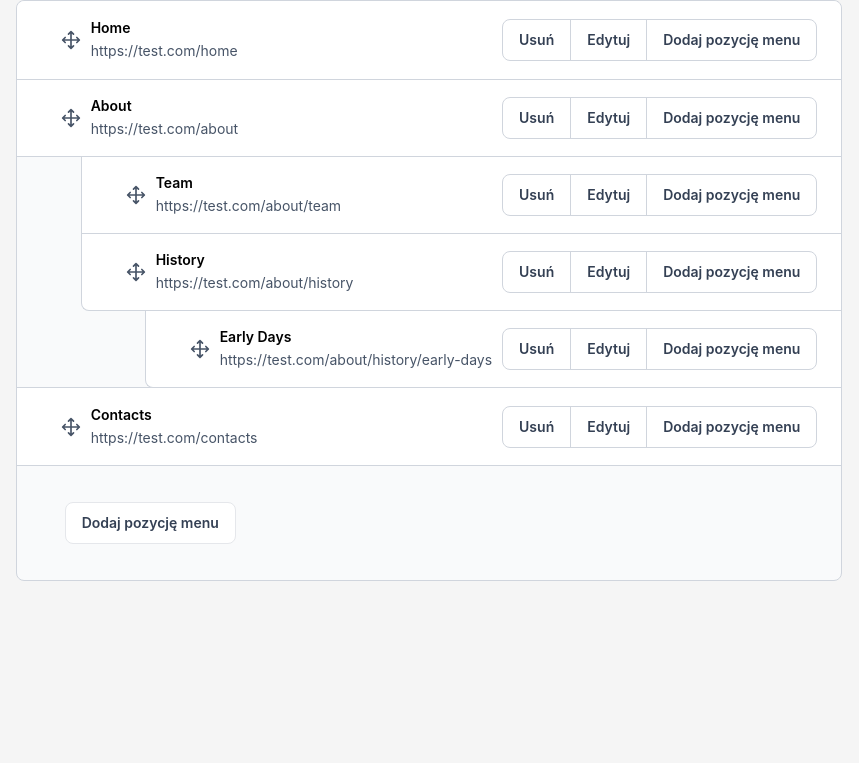
Test: MenuContainer › edits a menu item
The width and height of the screenshot is (859, 763).
Click the 1st button "Edytuj".
click(609, 40)  # box [570,20,647,60]
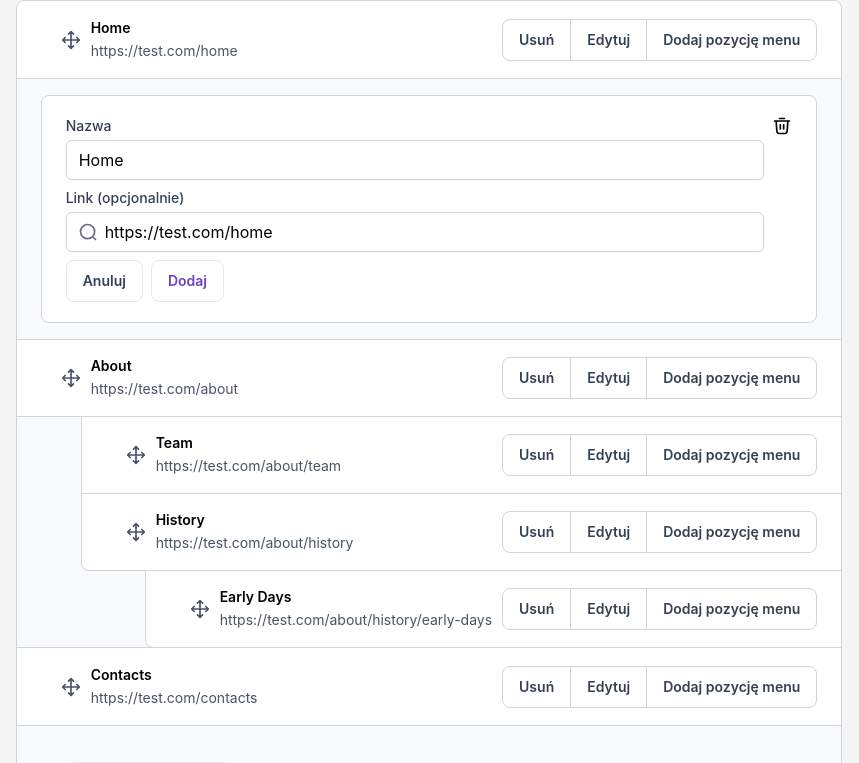
Replace the text in the field labelled "Nazwa" with "Updated Home" at (415, 160), box [66,140,764,180]
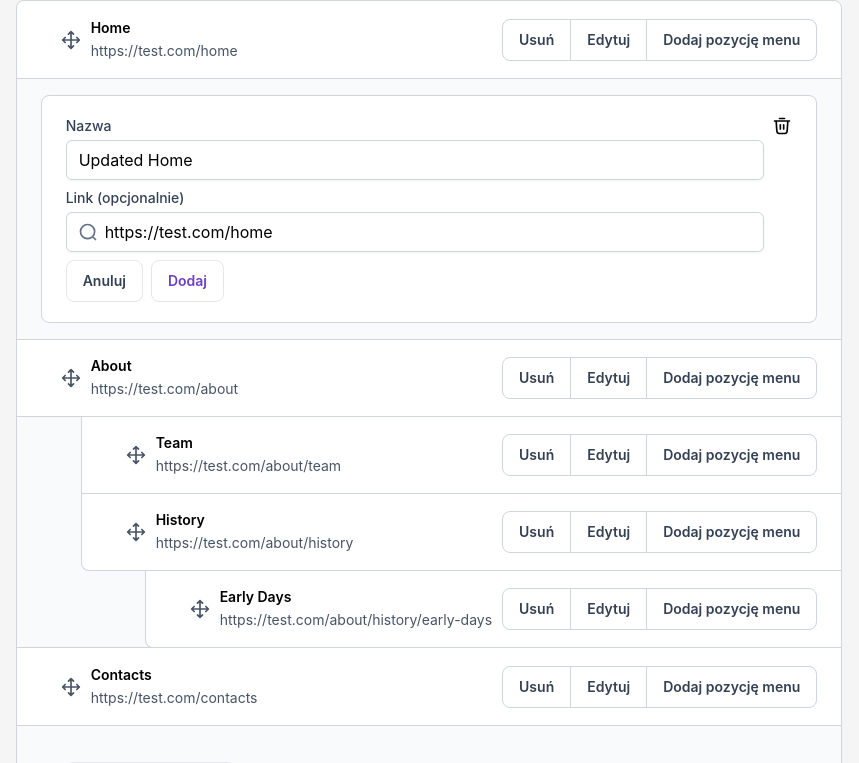
Replace the text in the field labelled "Link (opcjonalnie)" with "https://test.com/home-updated" at (428, 232), box [105,220,751,244]
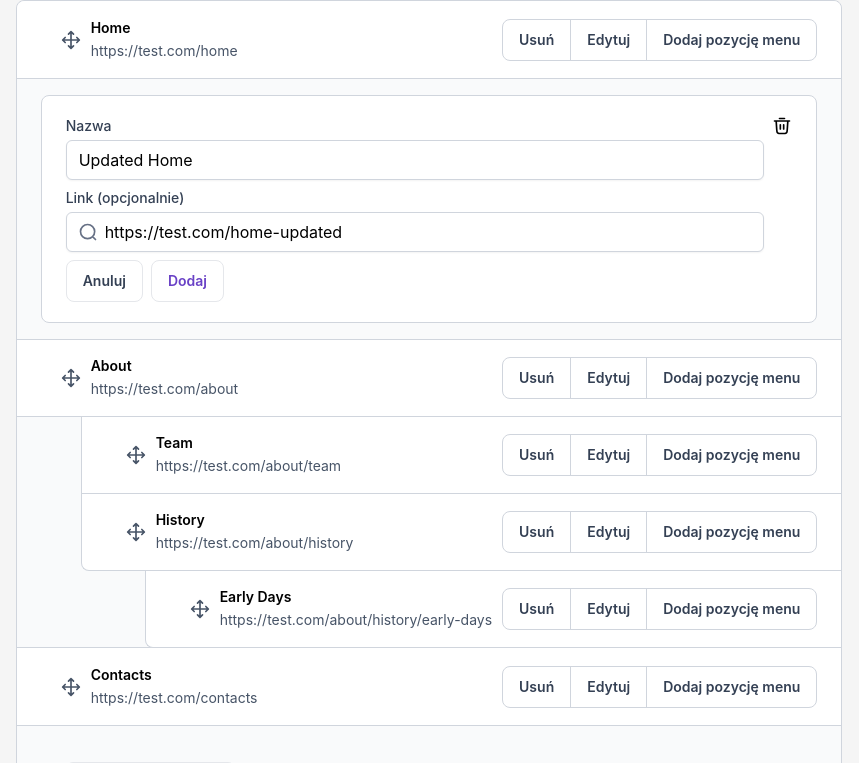
Click the button "Dodaj".
click(187, 281)  # box [151,260,224,302]
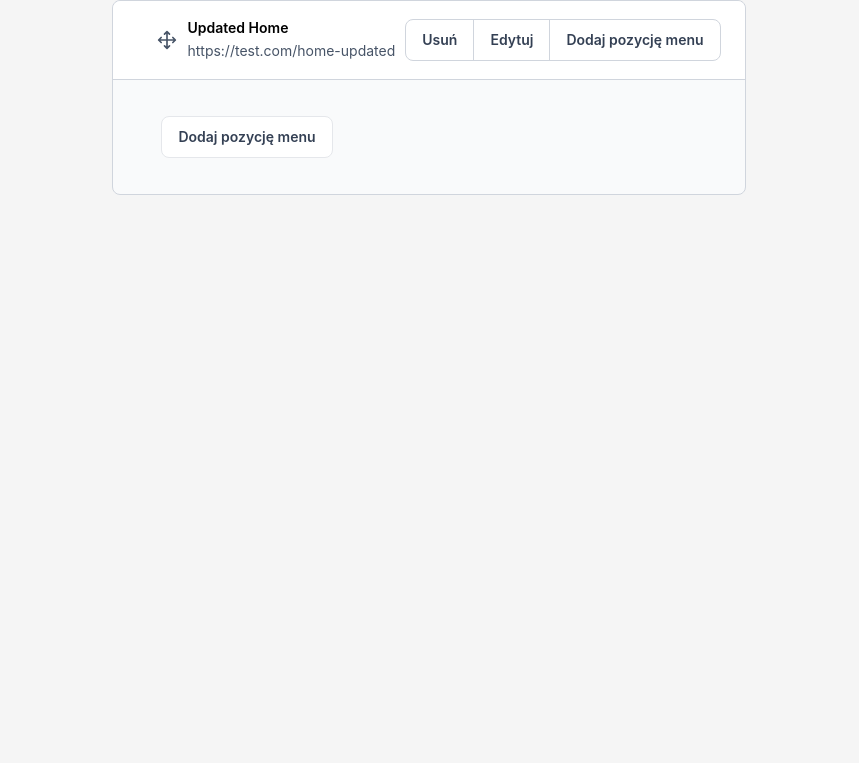
Check: the heading "Updated Home" is shown, box [187,19,288,36]
